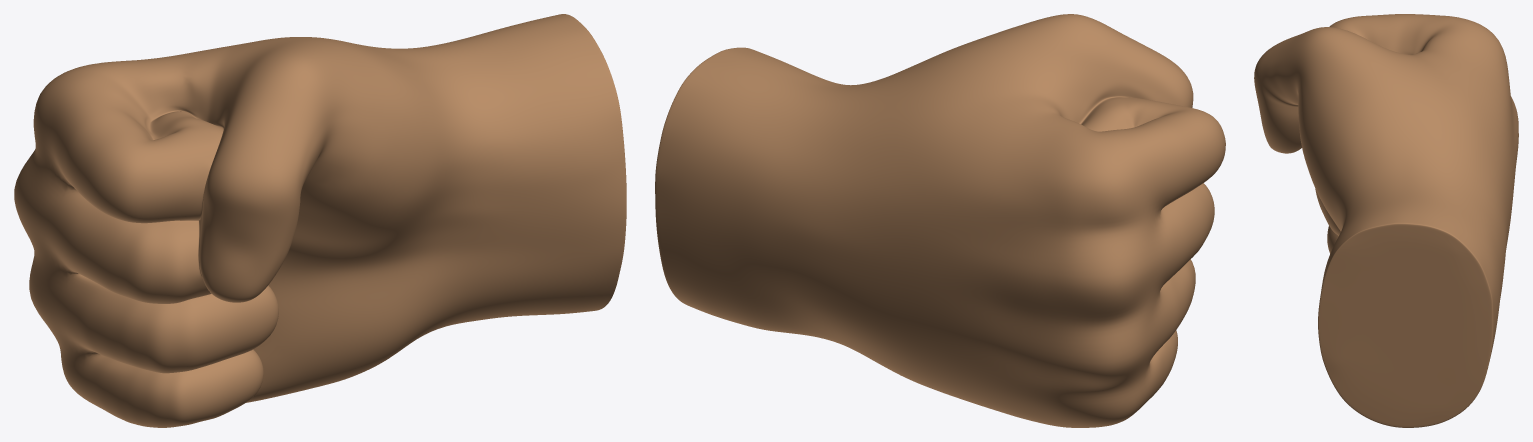
Rendered from fist.fbx.
The picture shows the model from 3 angles, left to right: view 1: azimuth 30°, elevation 25°; view 2: azimuth 150°, elevation 25°; view 3: azimuth 270°, elevation 25°; orthographic projection. The views are drawn at different scales.
Visible parts, largest first — view 1: 11538_Hand_v2; view 2: 11538_Hand_v2; view 3: 11538_Hand_v2.
Boxes of the visible parts, left/top/right/bottom form: 11538_Hand_v2: left=14, top=14, right=626, bottom=427; 11538_Hand_v2: left=655, top=14, right=1225, bottom=427; 11538_Hand_v2: left=1254, top=14, right=1518, bottom=427.
Size of the model in its own units: 1211 by 836 by 684.
